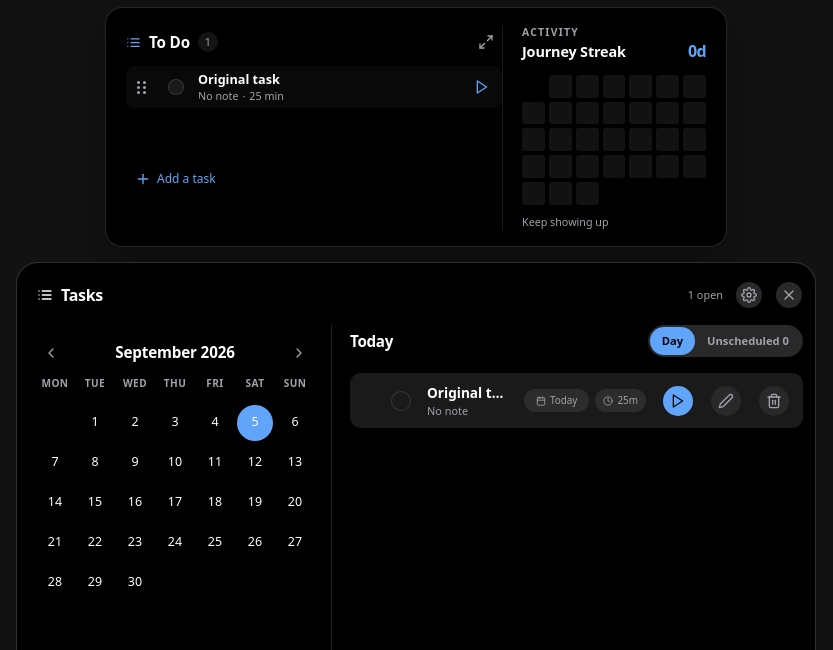
Test: Tasks surface › discards edits on Cancel without persisting them
Expected: the heading "Tasks" is shown, [61,287,103,303]
Click the button with aria-label "Open details for Original task" at point(467, 401), box [427,385,508,417]
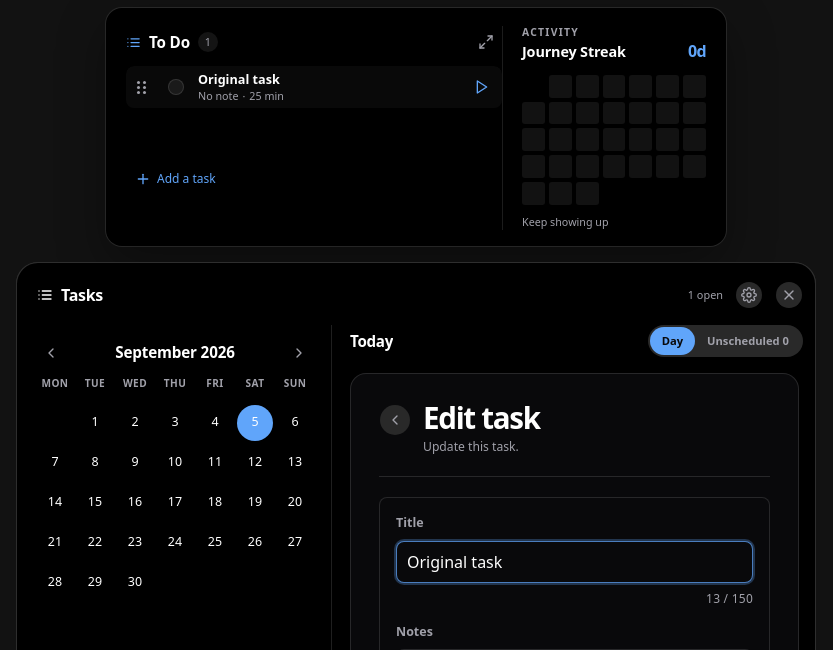
Replace the text in the field labelled "Title" with "Discarded task" at point(574, 562), box [396,541,753,583]
(page scrolled)
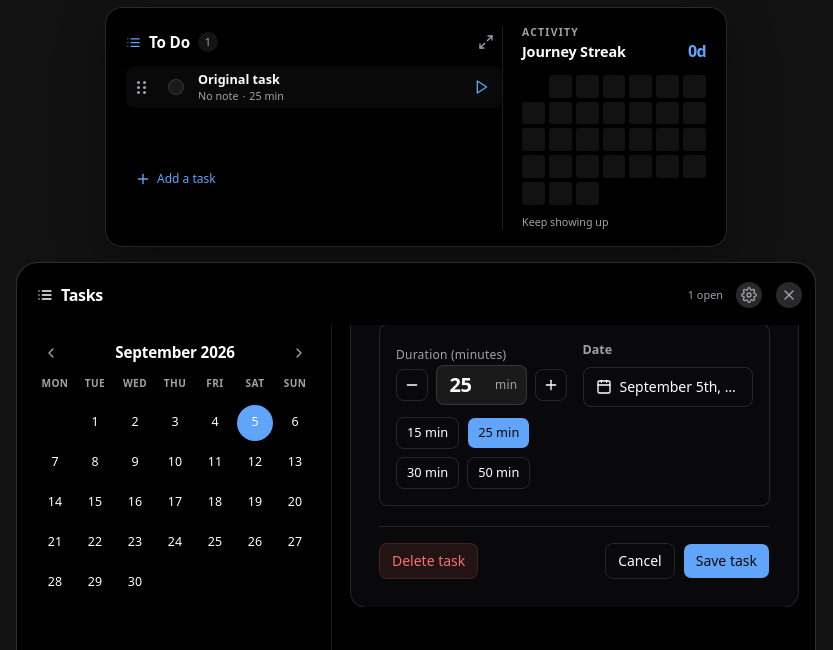
Click the button "Cancel" at point(640, 561), box [605,543,675,579]
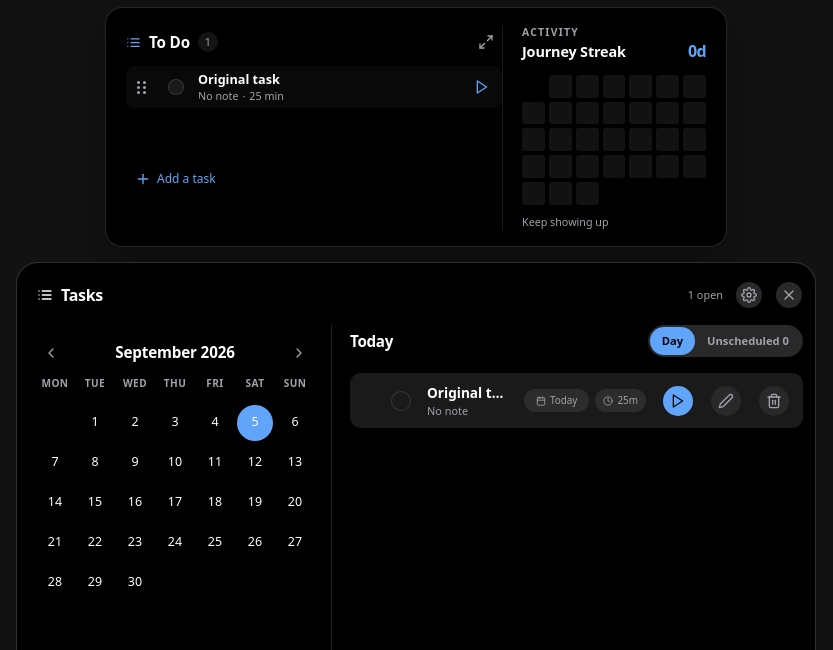
Expected: the text "Discarded task" is not shown
Expected: the 2nd text "Original task" is shown, [427,385,508,402]
